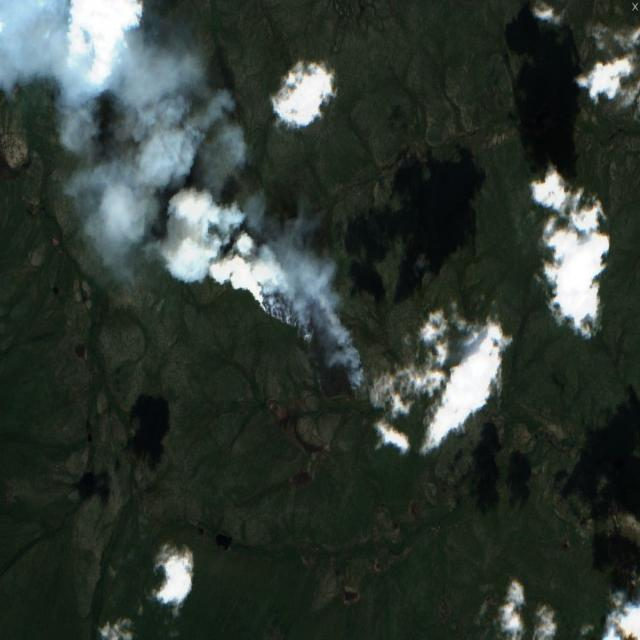fire: (245, 255, 365, 406)
